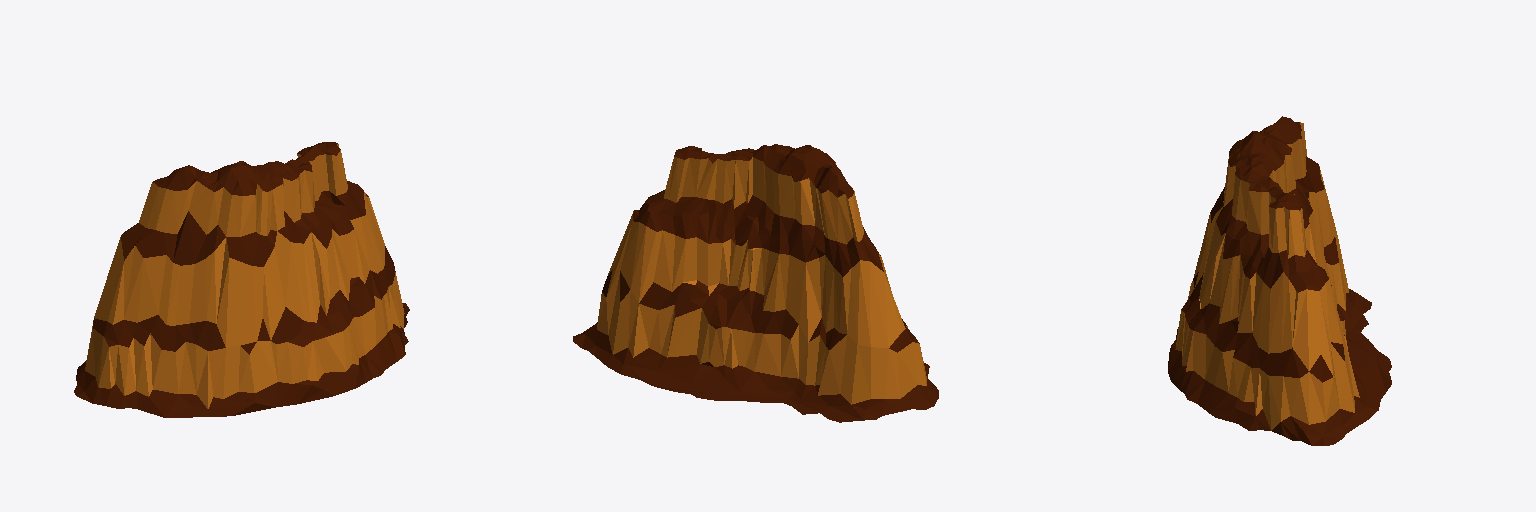
The model's file is mountain3.obj.
3 views of the same model, side by side, from view 1: azimuth 30°, elevation 25°; view 2: azimuth 150°, elevation 25°; view 3: azimuth 270°, elevation 25° (orthographic).
Parts seen in each view (by area): view 1: Mounting_3_Plane.004; view 2: Mounting_3_Plane.004; view 3: Mounting_3_Plane.004.
Part boxes in pixels (left/top/right/bottom): Mounting_3_Plane.004: left=74, top=142, right=409, bottom=417; Mounting_3_Plane.004: left=573, top=144, right=938, bottom=422; Mounting_3_Plane.004: left=1168, top=116, right=1391, bottom=445.
Bounding box in the file's own units: 24.7 × 14.8 × 13.9.